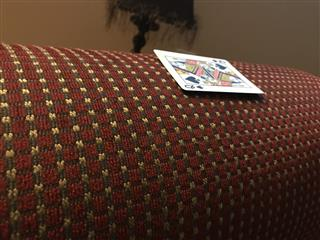QueenOfSpades: (152, 48, 265, 94)
